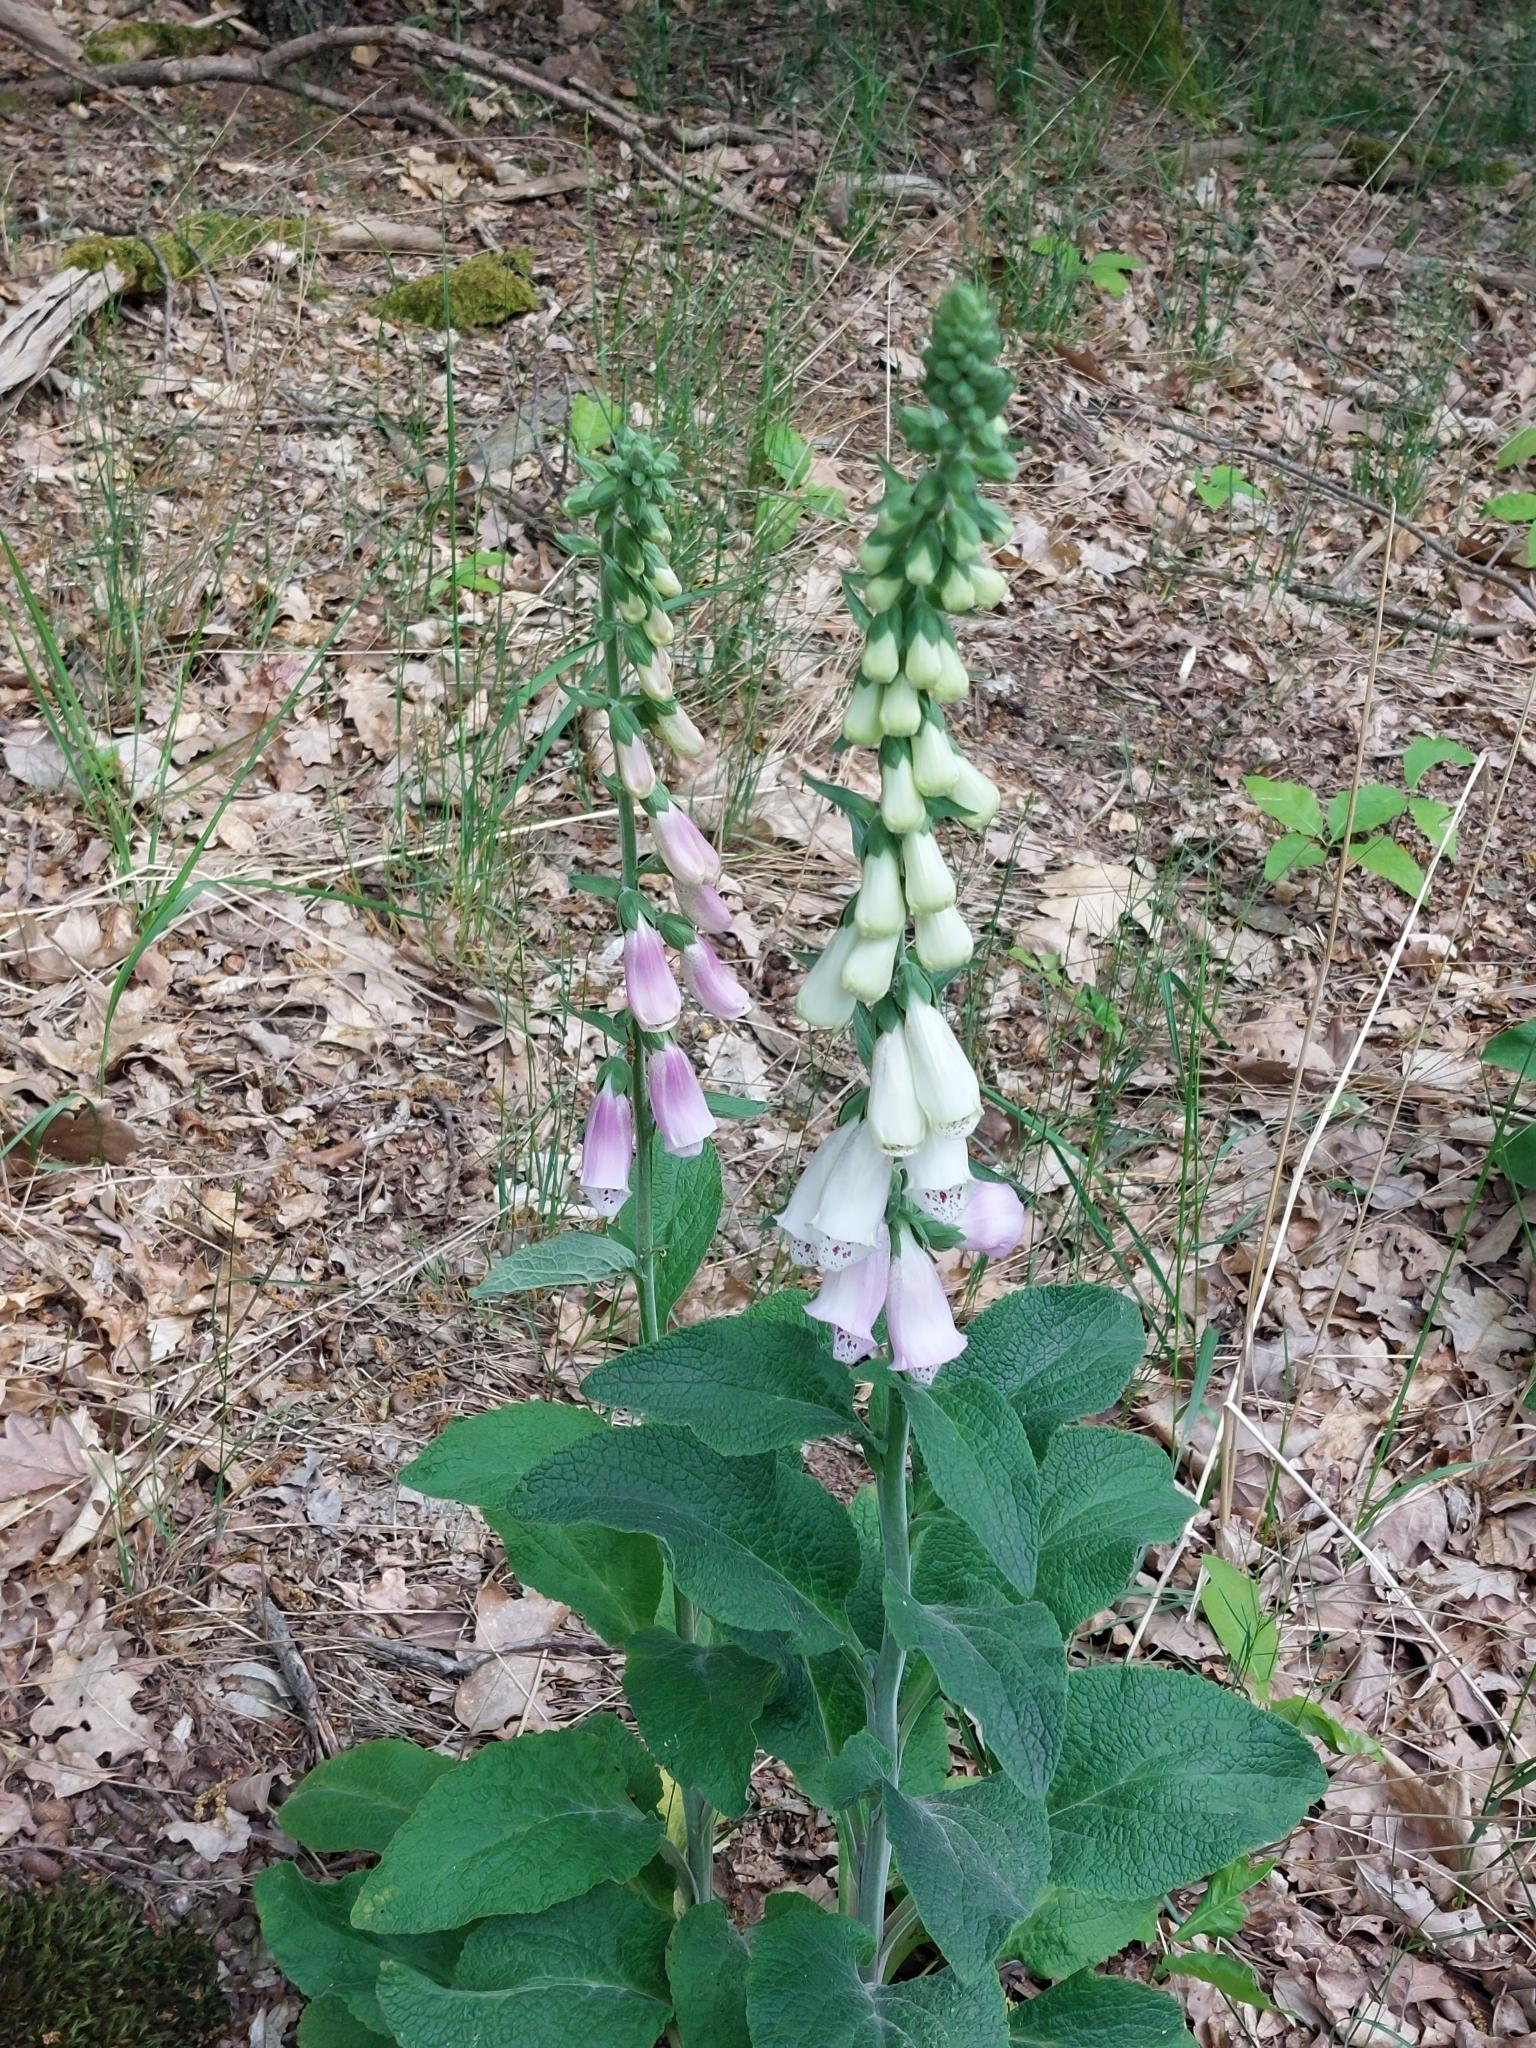Digitalis L: (260, 297, 1329, 2048)
